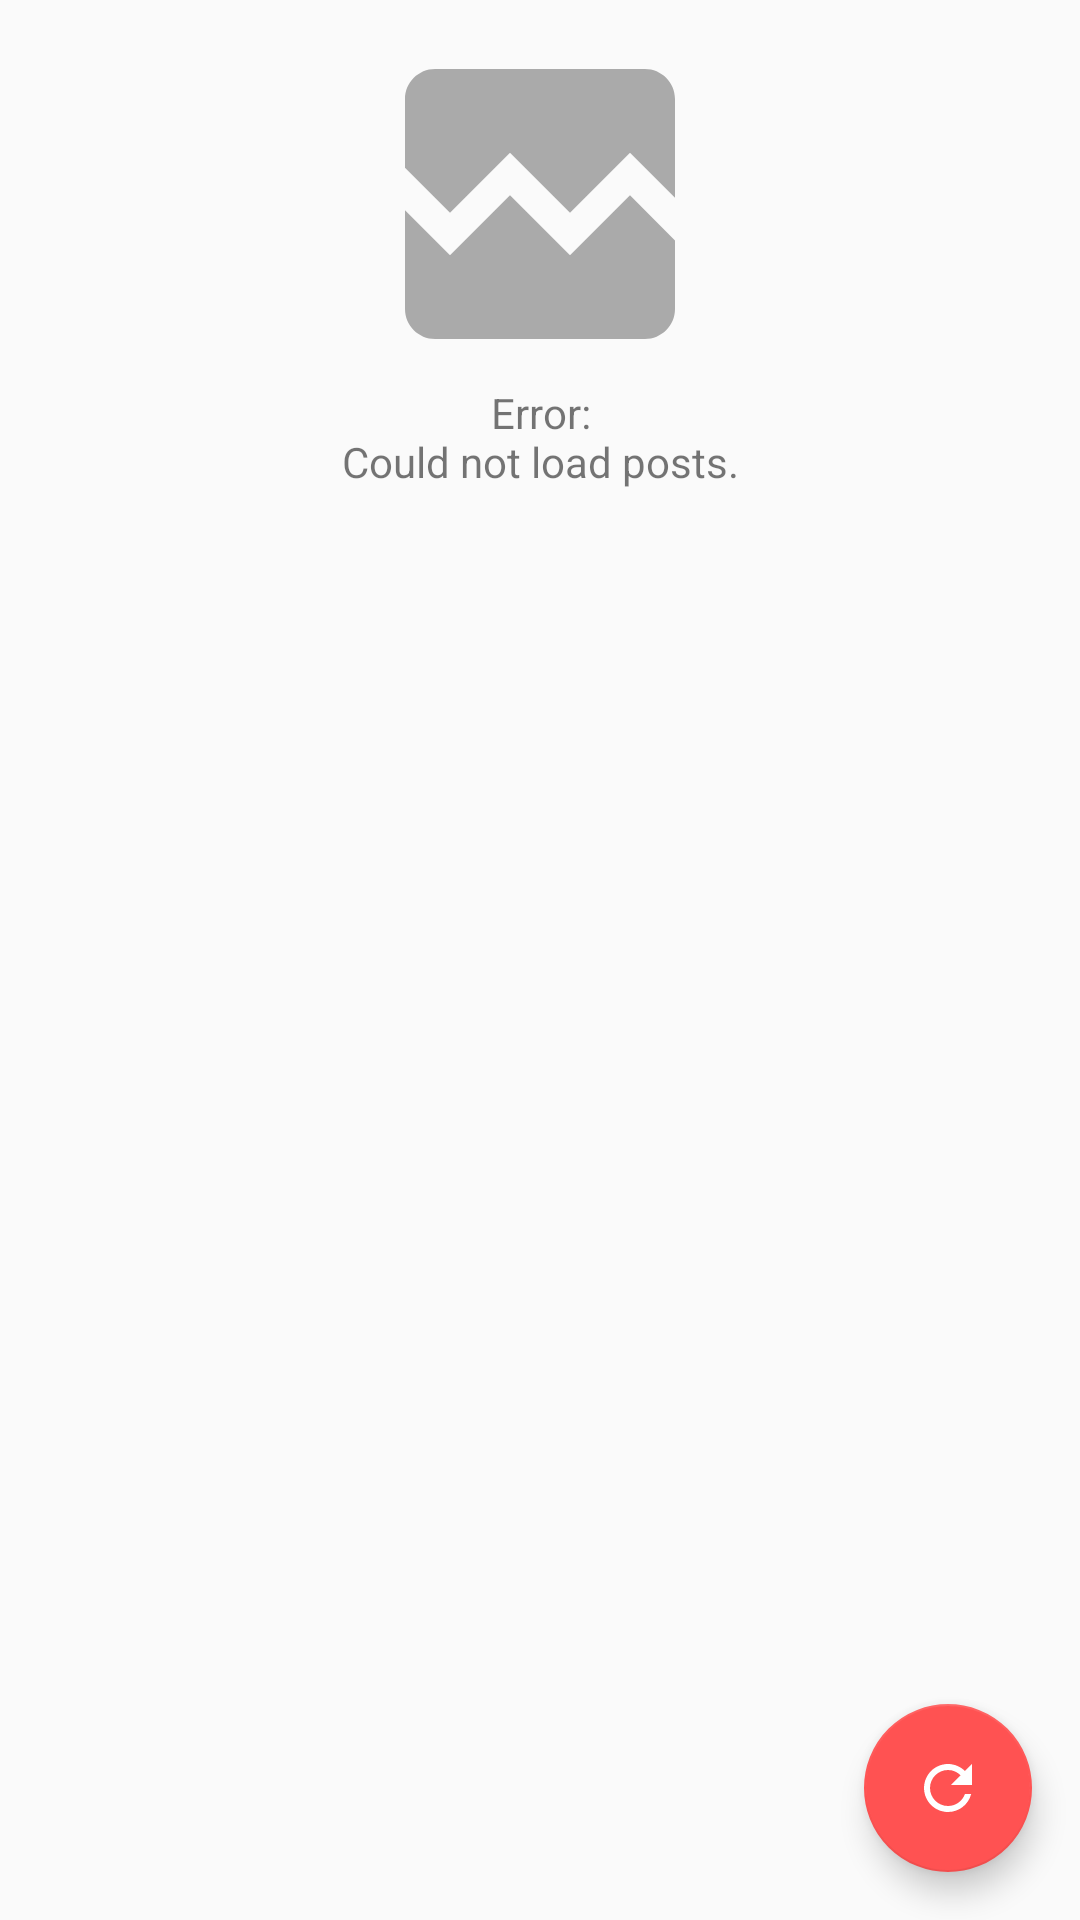

Point at icon controls on the screen. Image size 1080px×1920px, points as (x,y).
refresh: (948,1788)
